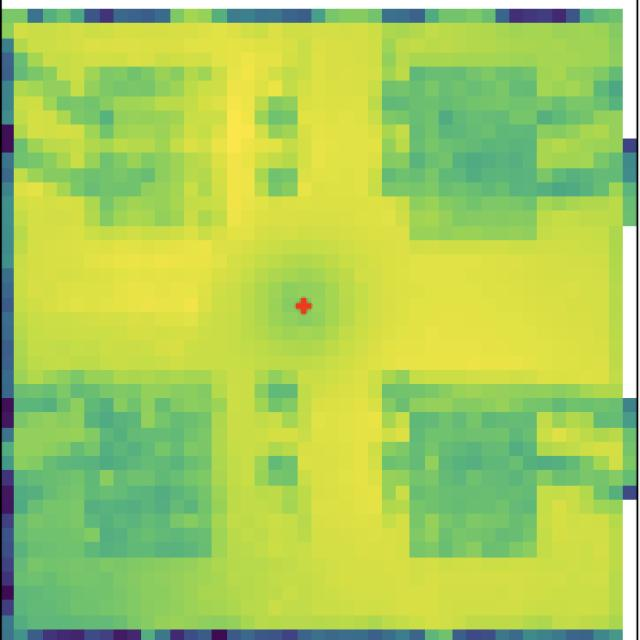Concrete: (65, 373, 231, 575)
Glass: (392, 50, 544, 247)
Metal: (72, 56, 232, 245)
Wood: (396, 369, 550, 571)
